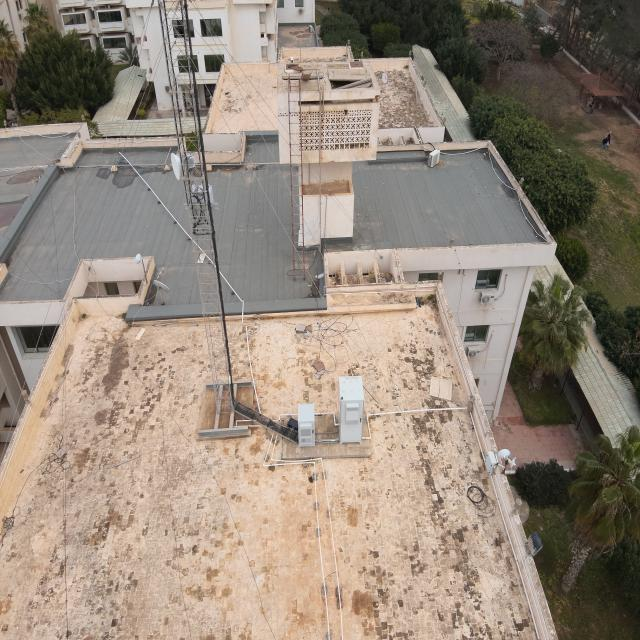microware-dish: (165, 144, 201, 183)
power-box: (182, 179, 218, 217)
